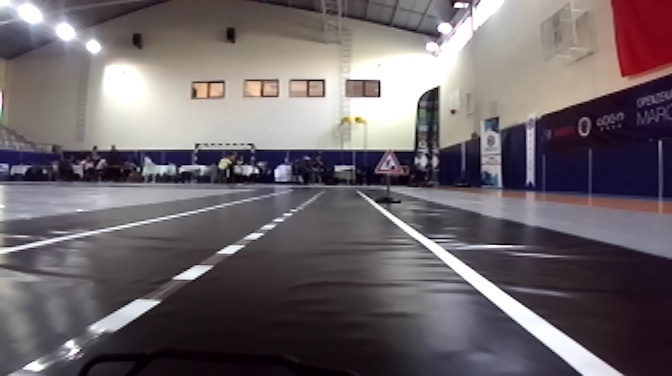yol_yapimi: (374, 151, 405, 178)
